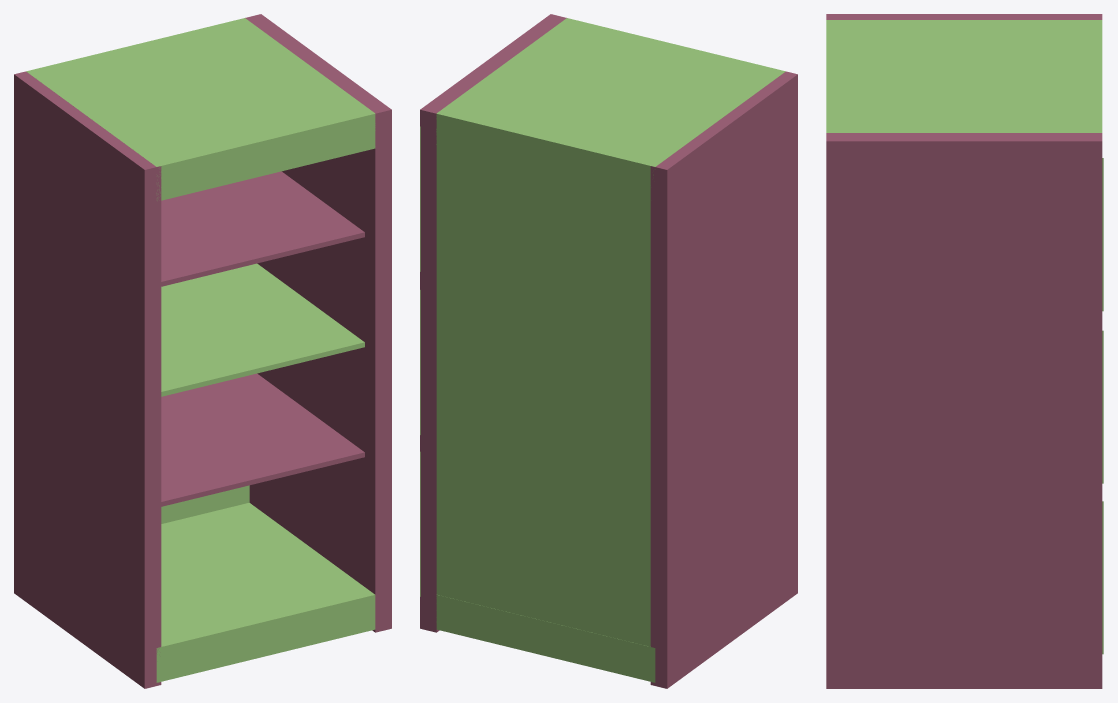
File: ColorBox.dae
3 renders of one model, left to right at view 1: azimuth 30°, elevation 25°; view 2: azimuth 150°, elevation 25°; view 3: azimuth 270°, elevation 25°, orthographic. The views are drawn at different scales.
Visible parts, largest first — view 1: tablon_estante_superior_001, tablon_estante_superior; view 2: tablon_estante_superior, tablon_estante_superior_001; view 3: tablon_estante_superior_001, tablon_estante_superior.
Part boxes in pixels (box(x1,y1,x2,y2)): tablon_estante_superior_001: box(14, 14, 391, 688); tablon_estante_superior: box(26, 18, 375, 682); tablon_estante_superior: box(420, 18, 785, 682); tablon_estante_superior_001: box(420, 14, 797, 688); tablon_estante_superior_001: box(826, 14, 1102, 688); tablon_estante_superior: box(826, 20, 1103, 654).
Bounding box in the file's own units: 0.7817 × 0.7201 × 1.57.
